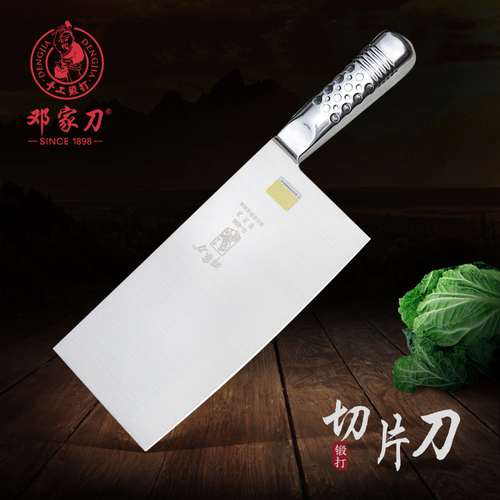knief: (86, 38, 416, 453)
